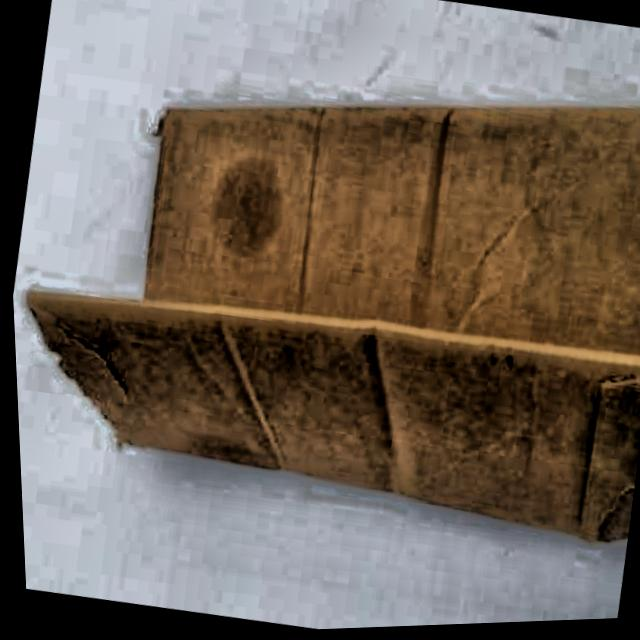Cardbox: (1, 22, 640, 590)
